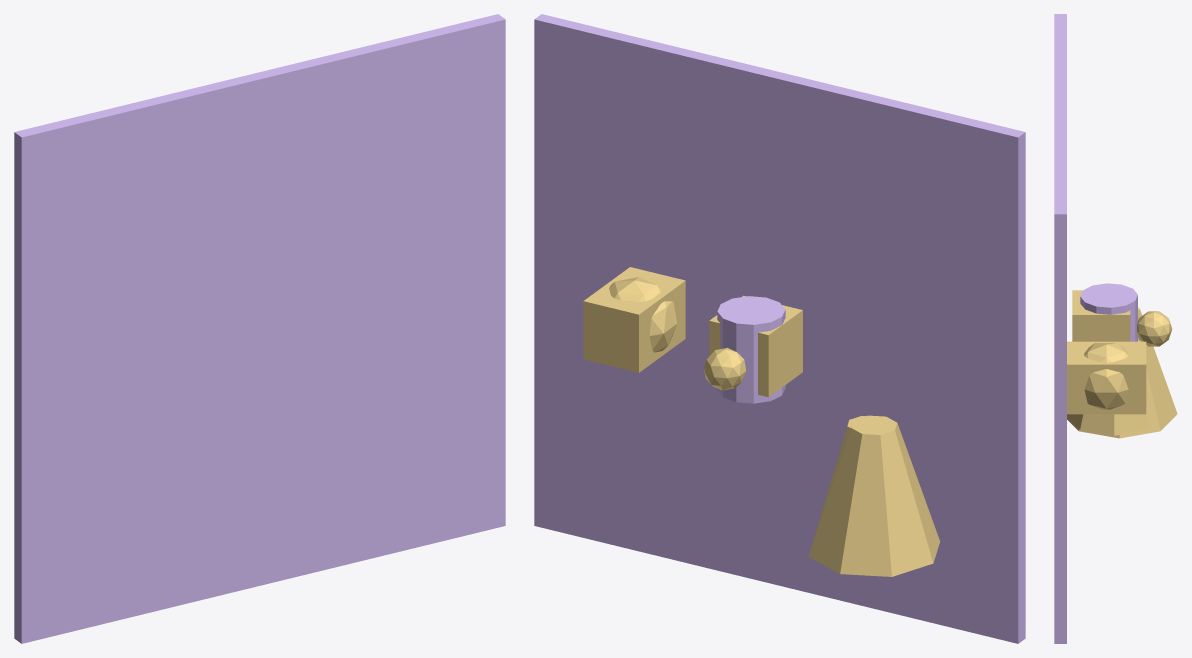
The model's file is physics-destruction-kit.glb.
The picture shows the model from 3 angles, left to right: view 1: azimuth 30°, elevation 25°; view 2: azimuth 150°, elevation 25°; view 3: azimuth 270°, elevation 25°; orthographic projection. The views are drawn at different scales.
Parts seen in each view (by area): view 1: ENVIRONMENT_GROUND; view 2: ENVIRONMENT_GROUND, ENVIRONMENT_LANDMARK, PROFILE_OBSTACLE_DETAIL, PLAYER_BODY, PROFILE_PLAYER_DETAIL, OBSTACLE, PLAYER_CORE; view 3: ENVIRONMENT_GROUND, PROFILE_OBSTACLE_DETAIL, OBSTACLE, ENVIRONMENT_LANDMARK, PROFILE_PLAYER_DETAIL, PLAYER_BODY, PROFILE_ENVIRONMENT_DETAIL, PLAYER_CORE.
Part boxes in pixels (x1,y1,x2,y2): ENVIRONMENT_GROUND: (14, 14, 505, 643); ENVIRONMENT_GROUND: (534, 14, 1025, 643); ENVIRONMENT_LANDMARK: (808, 415, 940, 576); PROFILE_OBSTACLE_DETAIL: (583, 267, 685, 372); PLAYER_BODY: (717, 296, 785, 403); PROFILE_PLAYER_DETAIL: (709, 295, 802, 397); OBSTACLE: (609, 277, 676, 352); PLAYER_CORE: (704, 347, 746, 390); ENVIRONMENT_GROUND: (1054, 14, 1066, 643); PROFILE_OBSTACLE_DETAIL: (1067, 341, 1146, 414); OBSTACLE: (1084, 343, 1128, 409); ENVIRONMENT_LANDMARK: (1067, 307, 1177, 438); PROFILE_PLAYER_DETAIL: (1072, 290, 1130, 341); PLAYER_BODY: (1080, 283, 1137, 341); PROFILE_ENVIRONMENT_DETAIL: (1067, 414, 1148, 435); PLAYER_CORE: (1137, 311, 1172, 346).
Size of what is drawn, in the model's own units: 9 by 9 by 2.34.
